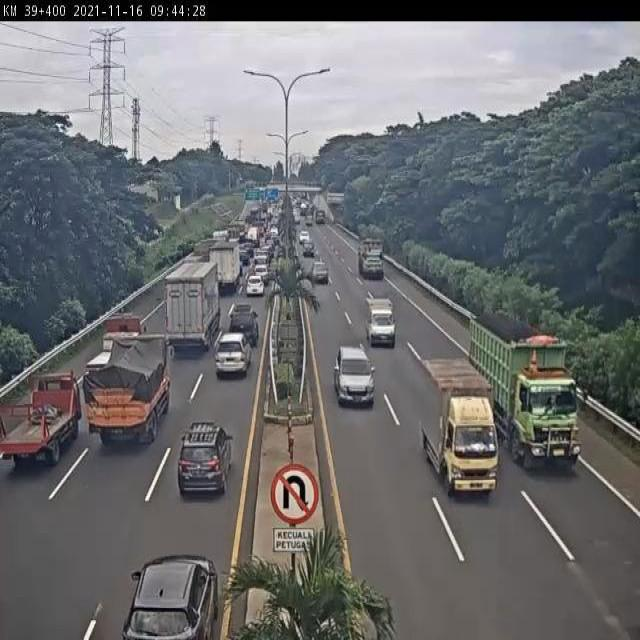car: (179, 423, 233, 493), (334, 345, 375, 408), (212, 333, 247, 379), (228, 305, 259, 347), (311, 260, 328, 283), (245, 276, 264, 296)
small truck: (420, 357, 500, 496), (0, 376, 75, 473), (82, 313, 143, 376), (365, 299, 398, 352)
truck-l-: (468, 318, 582, 470), (165, 263, 219, 352)
truck-m-: (84, 336, 175, 447), (210, 244, 239, 289)
